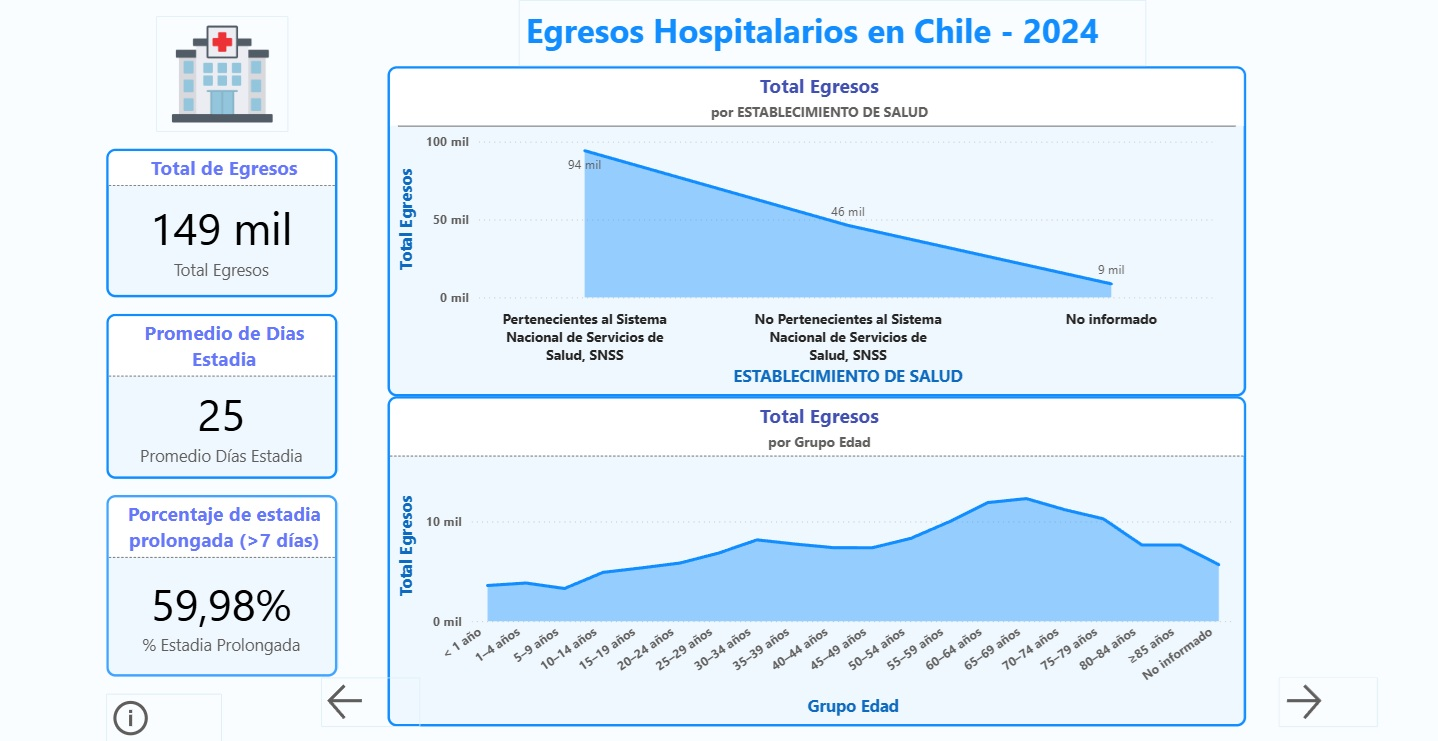

What the dashboard file says about the page in this screenshot:
{"tool":"powerbi","page":{"name":"Página 1","canvas":[1280,720],"ordinal":0},"visuals":[{"type":"card","title":"Total de Egresos","fields":{"Values":["EGRESOS_2024.Total Egresos"]},"box":[16,144,224,144],"z":0},{"type":"card","title":"Promedio de Dias Estadia","fields":{"Values":["EGRESOS_2024.Promedio Días Estadia"]},"box":[16,304,224,160],"z":1000},{"type":"lineChart","fields":{"Category":["EGRESOS_2024.ESTABLECIMIENTO_SALUD"],"Y":["EGRESOS_2024.Total Egresos"]},"box":[288,64,832,320],"z":2000},{"type":"textbox","box":[416,0,608,64],"z":3000},{"type":"image","box":[64,16,128,112],"z":4000},{"type":"stackedAreaChart","title":"Total Egresos ","fields":{"Y":["EGRESOS_2024.Total Egresos"],"Category":["EGRESOS_2024.Grupo_Edad_Estandar"]},"box":[288,384,832,320],"z":5000},{"type":"actionButton","box":[16,672,112,48],"z":6000},{"type":"actionButton","box":[224,656,96,48],"z":8000},{"type":"card","title":"Porcentaje de estadia prolongada (>7 días)","fields":{"Values":["select","EGRESOS_2024.Pct_Egresos_Prolongados"]},"box":[16,480,224,176],"z":9000}]}

Visuals, with their boxes on the page's 1280x720 design canvas (x1, y1, x2, y2). These are canvas units, not pixel positions in the 1438x741 screenshot, which may show the page scaled, cropped or inside an application window:
"Total de Egresos" card: 16:144:240:288
"Promedio de Dias Estadia" card: 16:304:240:464
lineChart - EGRESOS_2024.ESTABLECIMIENTO_SALUD x EGRESOS_2024.Total Egresos: 288:64:1120:384
textbox: 416:0:1024:64
image: 64:16:192:128
"Total Egresos " stackedAreaChart: 288:384:1120:704
actionButton: 16:672:128:720
actionButton: 224:656:320:704
"Porcentaje de estadia prolongada (>7 días)" card: 16:480:240:656
